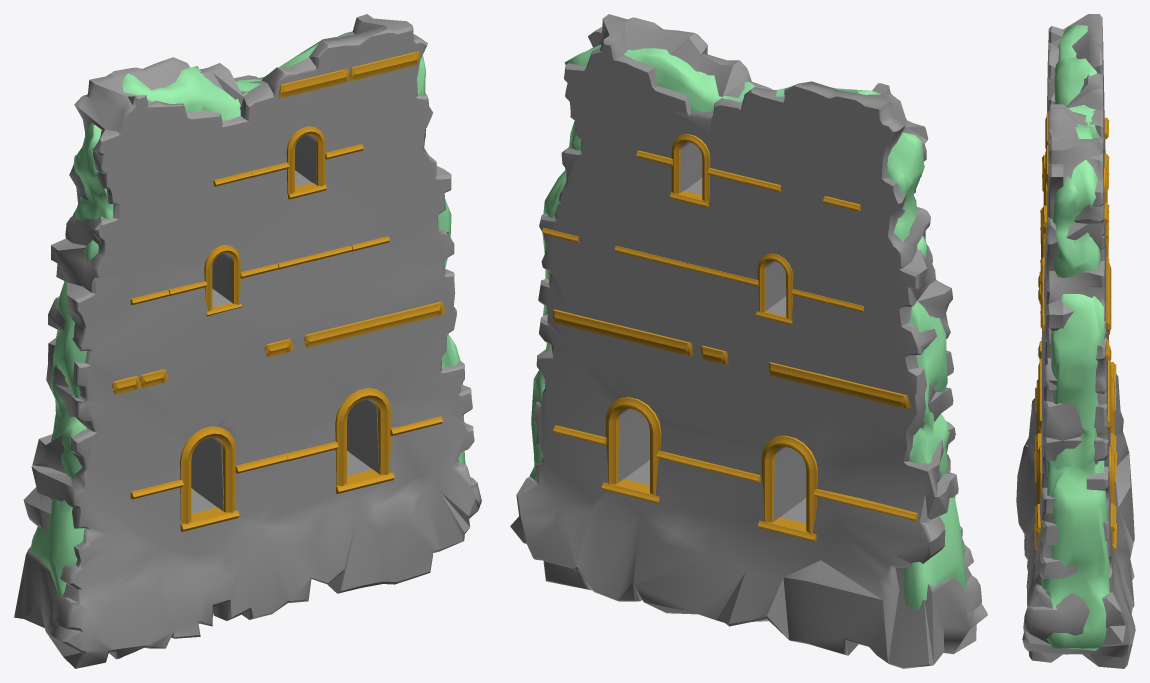
Rendered from SM_Huge_Castle_Wall_ALT.fbx.
3 renders of one model, left to right at view 1: azimuth 30°, elevation 25°; view 2: azimuth 150°, elevation 25°; view 3: azimuth 270°, elevation 25°, orthographic. The views are drawn at different scales.
Parts seen in each view (by area): view 1: SM_Huge_Castle_Wall_ALT_LOD0; view 2: SM_Huge_Castle_Wall_ALT_LOD0; view 3: SM_Huge_Castle_Wall_ALT_LOD0.
Part boxes in pixels (x1=…): SM_Huge_Castle_Wall_ALT_LOD0: x1=14, y1=14, x2=481, y2=668; SM_Huge_Castle_Wall_ALT_LOD0: x1=510, y1=14, x2=987, y2=668; SM_Huge_Castle_Wall_ALT_LOD0: x1=1016, y1=14, x2=1135, y2=668.
Size of what is drawn, in the model's own units: 955 by 1187 by 248.
